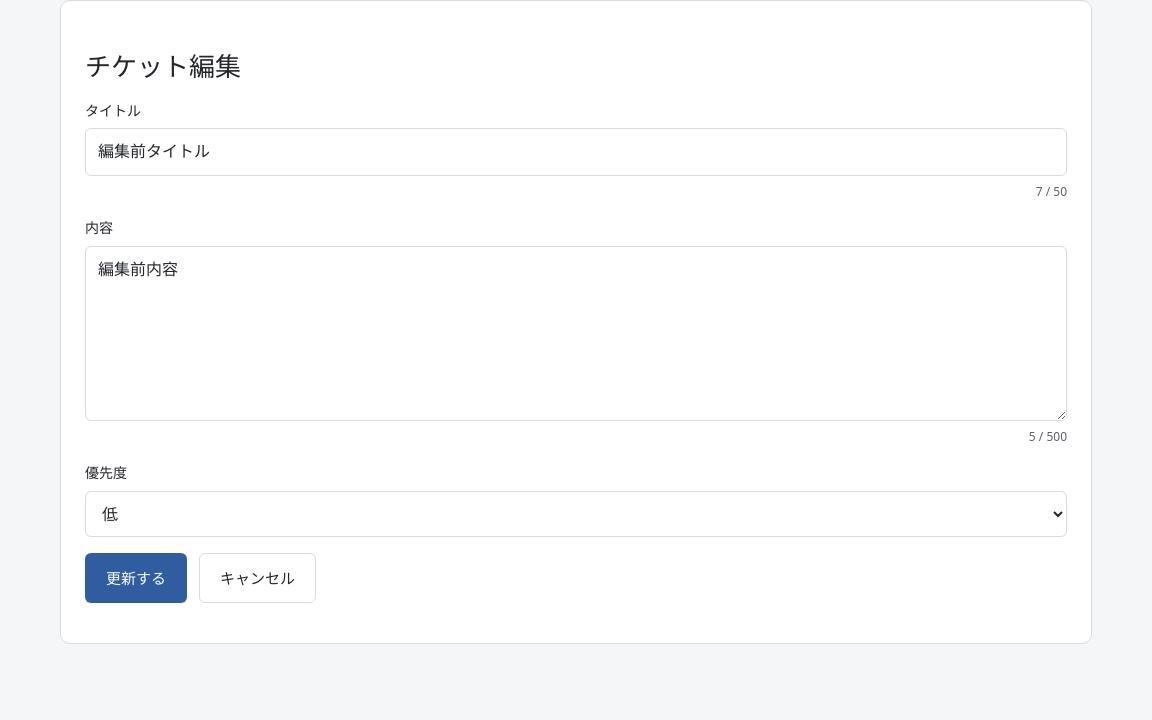
TicketEditPage › タイトルを空にするとバリデーションエラーを表示しPATCHを呼ばない
The image size is (1152, 720).
Step 1. Clear the field labelled "タイトル" → (576, 152), box [85,128,1067,176]
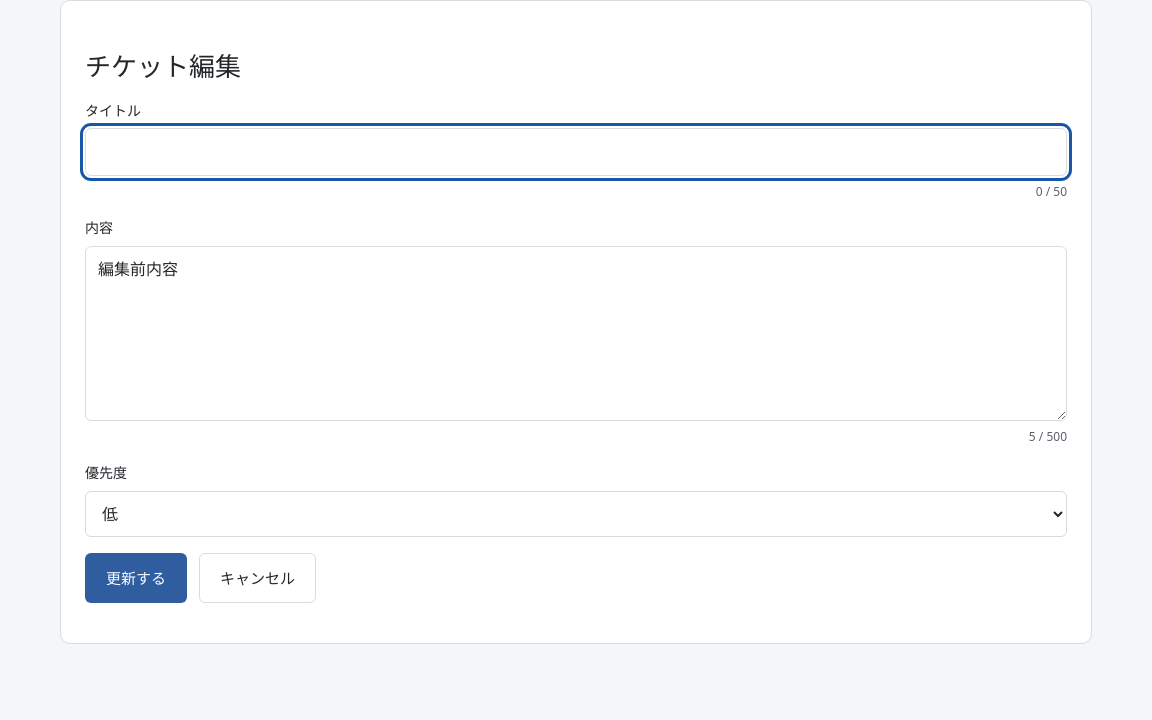
Step 2. Click the button "更新する" → (136, 578), box [85,553,187,603]
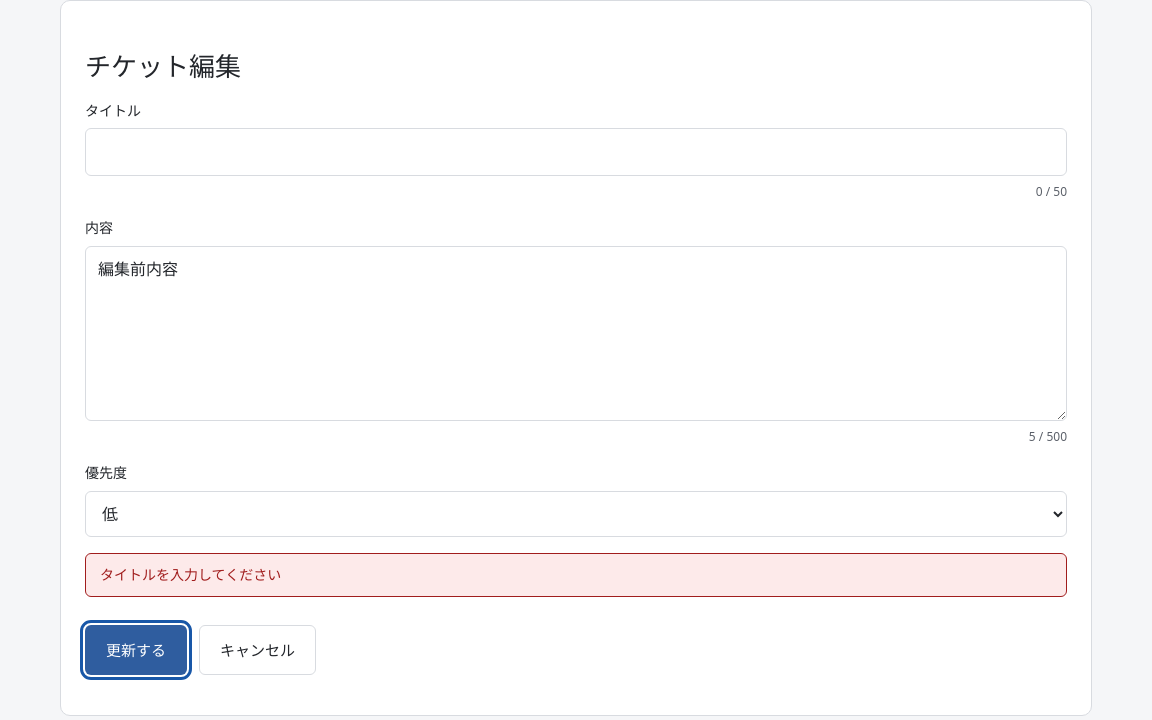
Expected: the message reads "タイトルを入力してください", [100,565,281,584]
